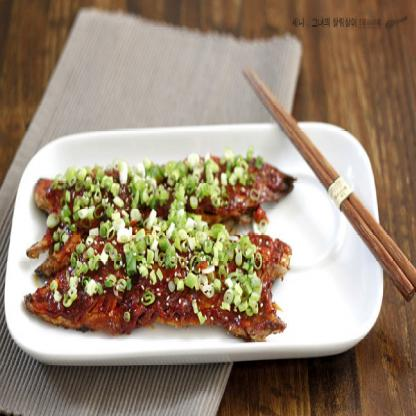Peixe: (18, 150, 305, 360)
